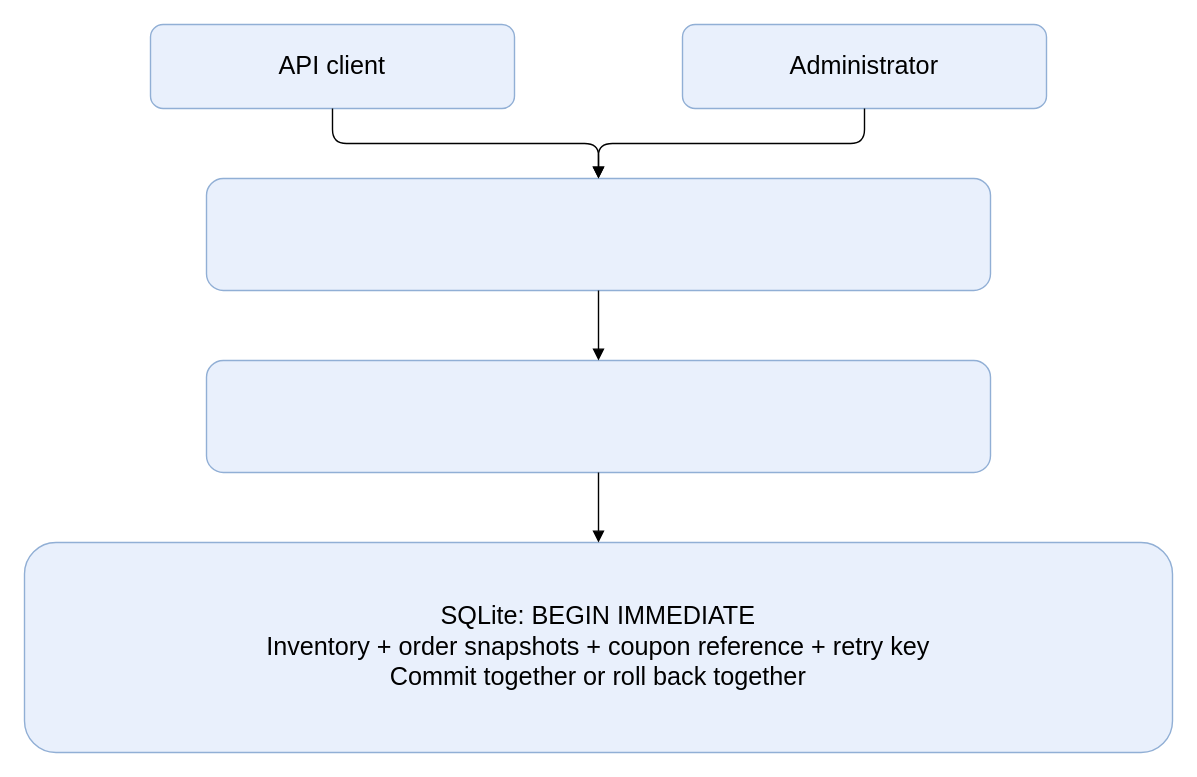
Image size: 1197x777. Some labels were removed from this diagram. Here are the shapes that lost their labels. From the top down, the centre of each, then its label:
At (x=597, y=233): "FastAPI Validation, schemas, stable errors, Swagger".
At (x=597, y=415): "Store service Carts, checkout, coupons, reporting".
